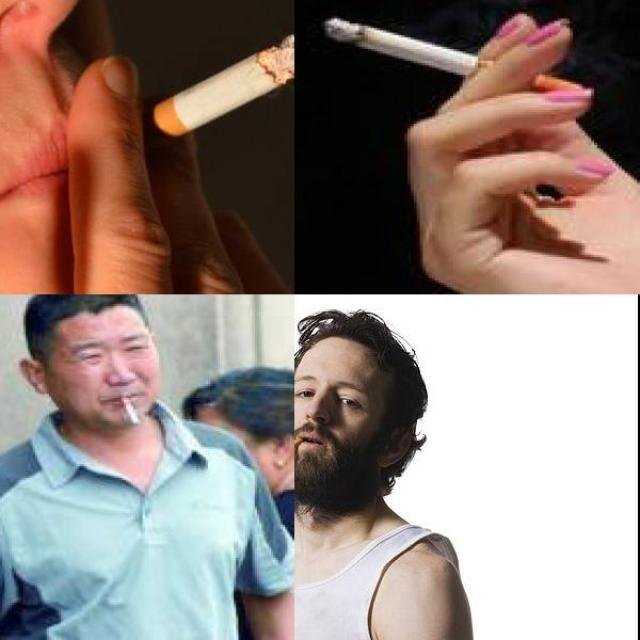smoking: (323, 18, 586, 104), (136, 24, 294, 150), (112, 392, 145, 429), (294, 436, 305, 471)
